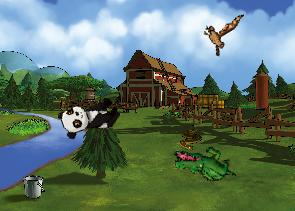crocodile: (172, 142, 236, 186)
eagle: (198, 6, 244, 60)
panda: (56, 92, 123, 141)
